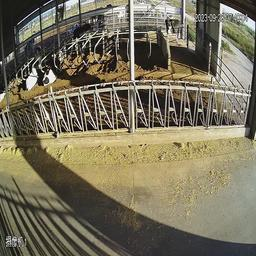cow: (68, 14, 94, 71), (43, 43, 62, 93), (161, 13, 186, 49), (24, 51, 42, 96), (104, 27, 121, 62)
